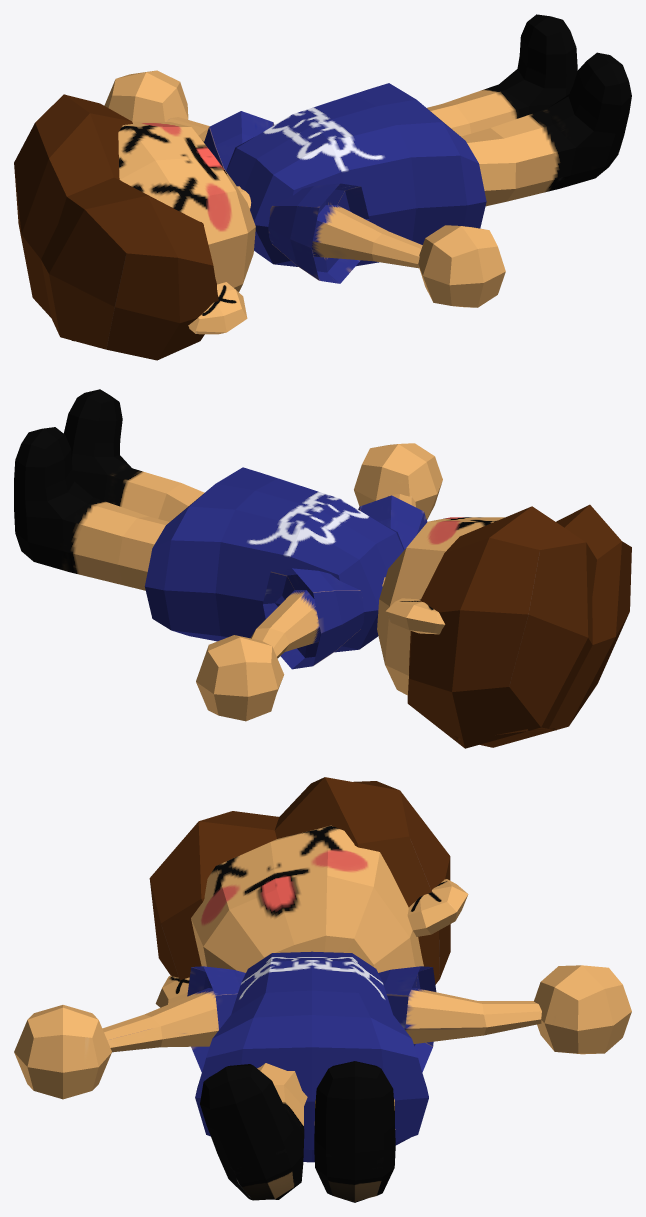
The model's file is deadbody.glb.
3 renders of one model, top to bottom at view 1: azimuth 30°, elevation 25°; view 2: azimuth 150°, elevation 25°; view 3: azimuth 270°, elevation 25°, orthographic. The views are drawn at different scales.
Visible parts, largest first — view 1: Cube.004; view 2: Cube.004; view 3: Cube.004.
Boxes of the visible parts, x1,y1,x2,y2 form: Cube.004: (14, 14, 631, 360); Cube.004: (14, 389, 631, 748); Cube.004: (14, 777, 631, 1202).
Size of the model in its own units: 3.41 by 1.44 by 2.98.
Materials: 1 (1 with a texture image).
